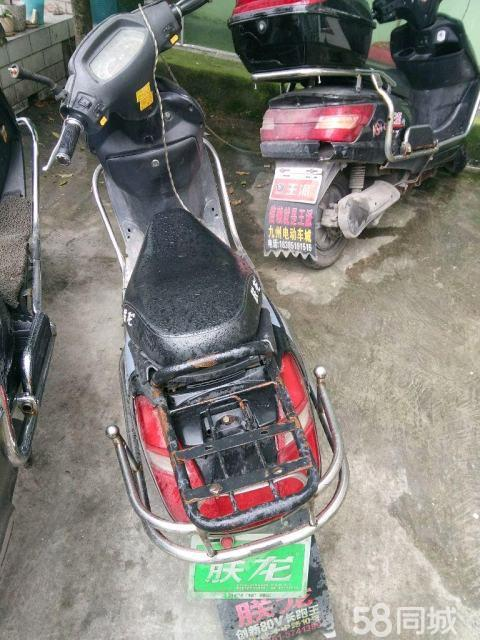电动车: (20, 6, 361, 638), (224, 2, 480, 270)
